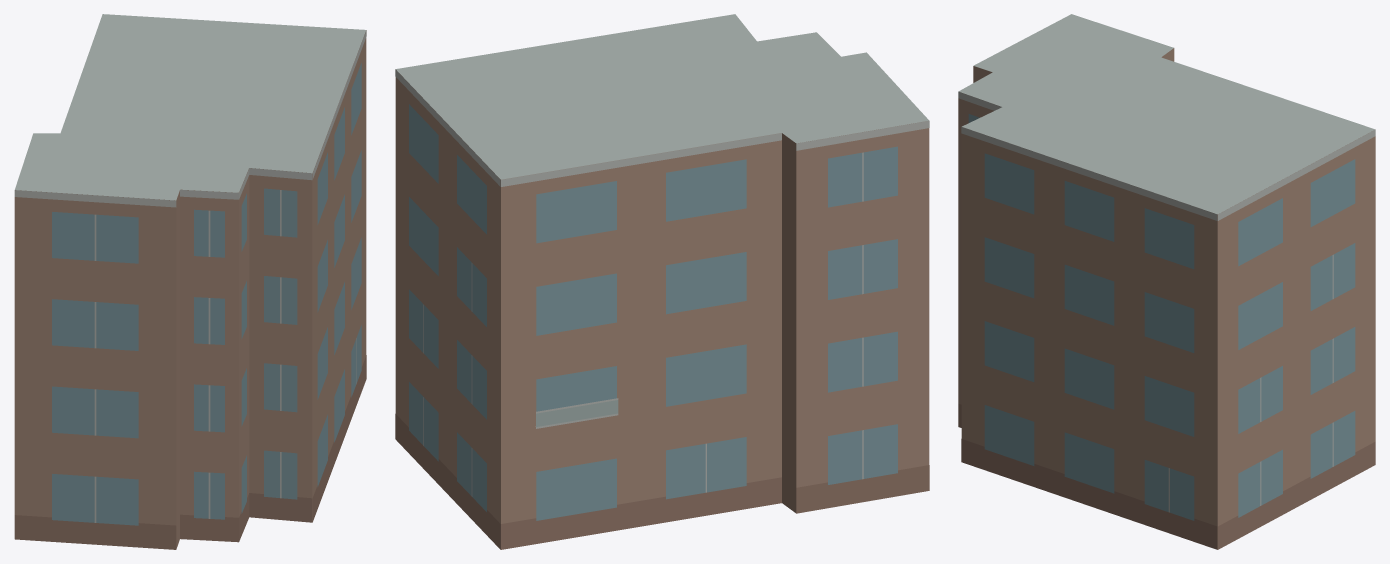
File: survey-upis-32591539.glb
3 renders of one model, left to right at view 1: azimuth 30°, elevation 25°; view 2: azimuth 150°, elevation 25°; view 3: azimuth 270°, elevation 25°, orthographic. The views are drawn at different scales.
Parts seen in each view (by area): view 1: survey-upis-32591539.tmp; view 2: survey-upis-32591539.tmp; view 3: survey-upis-32591539.tmp.
Boxes of the visible parts, x1,y1,x2,y2 form: survey-upis-32591539.tmp: [14, 14, 366, 549]; survey-upis-32591539.tmp: [395, 14, 929, 549]; survey-upis-32591539.tmp: [958, 14, 1375, 549].
Size of the model in its own units: 15.64 by 12.2 by 13.76.
